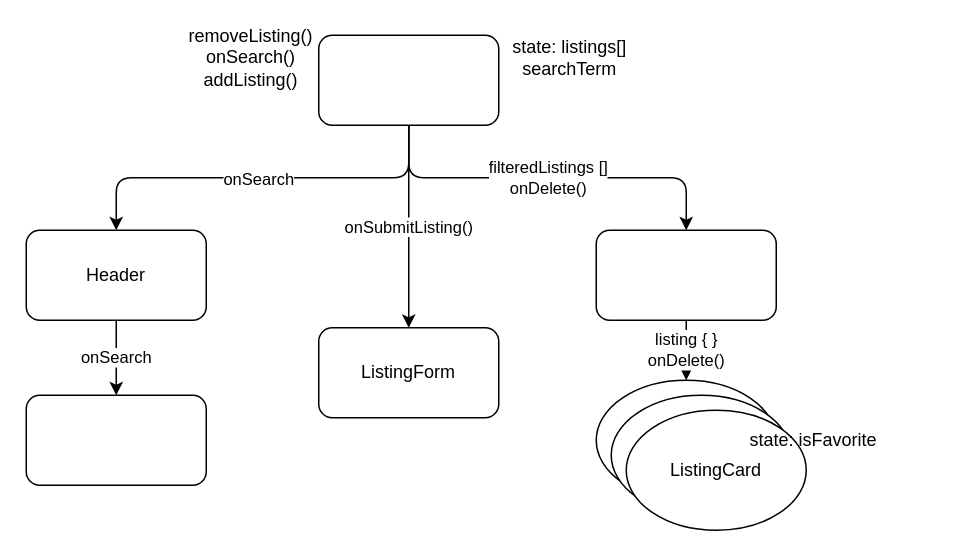
This 953x557 diagram has some shape labels left out. The box of each missing label's shape, as (x1, y1, x2, y2) in pixels:
App: (317, 34, 499, 125)
ListingContainer: (595, 229, 776, 320)
Search: (25, 394, 206, 485)
